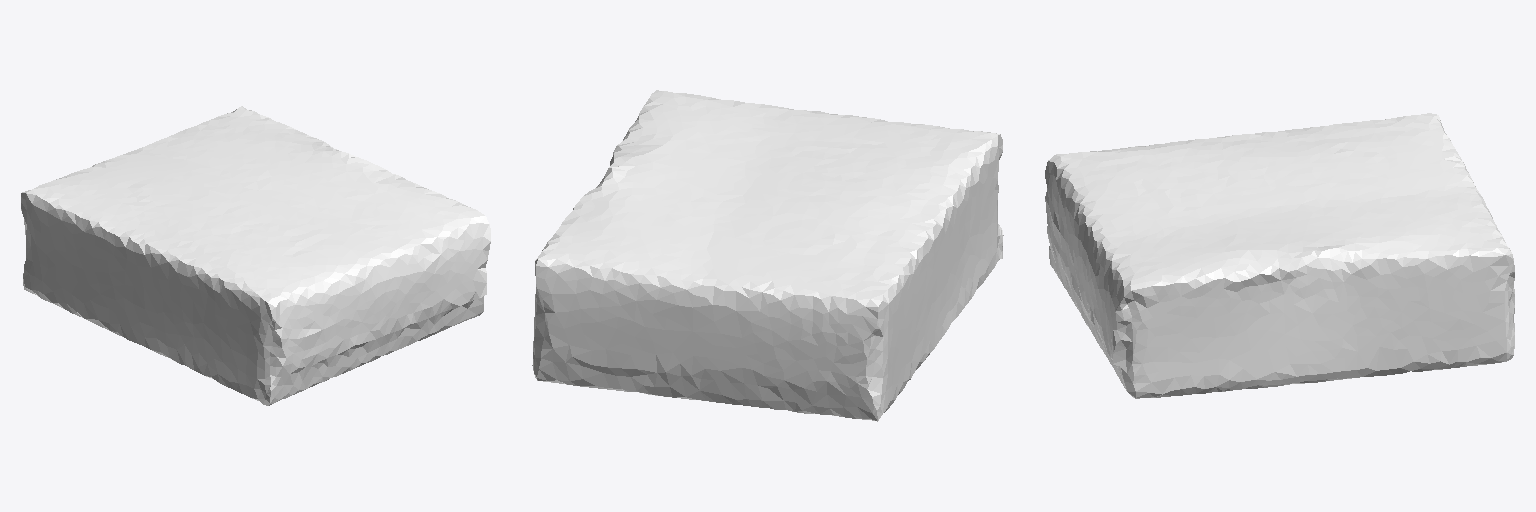
URDF robot description (gelatin_box):
<?xml version="1.0" ?>
<robot name="gelatin_box">
  <link name="Link">

    <inertial>
      <origin rpy="0 0 0" xyz="-0.022679 -0.007858 0.013875"/>
       <mass value="0.085"/>

       <inertia ixx="1.1687e-7" ixy="7.59e-9" ixz="2.3e-10"
                iyy="8.586e-8" iyz="4.5e-10"
                izz="1.8061e-7"/>
    </inertial>
    <visual>
      <origin rpy="0 0 0" xyz="0 0 0"/>
      <geometry>
            <mesh filename="textured2.obj" scale="1 1 1"/>
      </geometry>
        <material name="framemat0">
        <color rgba="1 1 1 1"/>
      </material>
    </visual>

    <collision>
      <geometry>
	 	 <mesh filename="textured2.obj" scale="1 1 1"/>
      </geometry>
    </collision>
  </link>
</robot>

--- What the picture shows (computed from the rendered views, not written in the file) ---
The picture shows the robot from 3 angles, left to right: view 1: azimuth 30°, elevation 25°; view 2: azimuth 150°, elevation 25°; view 3: azimuth 270°, elevation 25°; orthographic projection.
Robot: gelatin_box — 1 links, 0 joints (none); root link Link; default pose: all joints at 0.
Visible links, largest first — view 1: Link; view 2: Link; view 3: Link.
Link boxes in pixels (box(x1,y1,x2,y2)): Link: box(21, 106, 490, 405); Link: box(532, 90, 1003, 421); Link: box(1045, 113, 1514, 398).
Bounding box of the posed robot: 0.0893 × 0.1013 × 0.0302 m (x, y, z).
1 mesh visuals loaded from 1 distinct referenced files (1 OBJ).